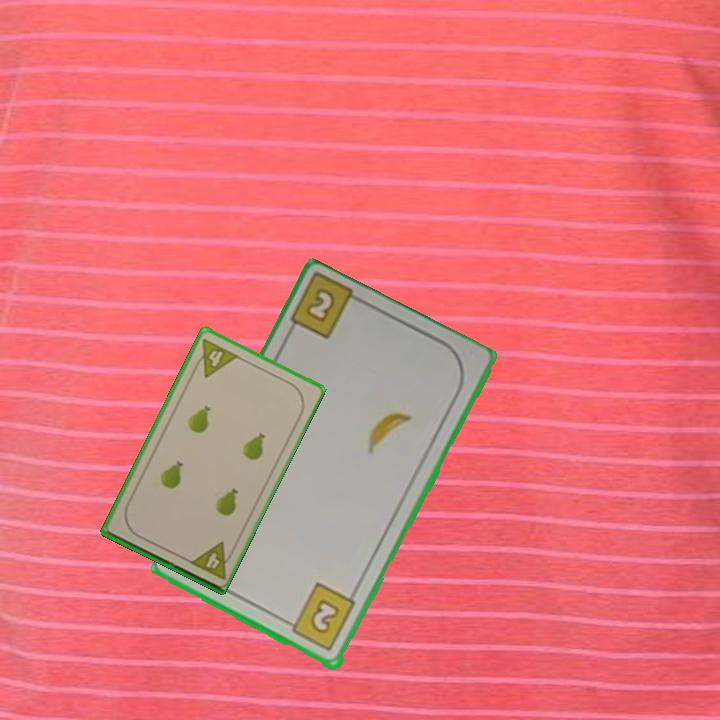2b: (281, 580, 359, 655), (301, 285, 339, 327)
4p: (189, 335, 241, 380), (185, 538, 238, 582)
